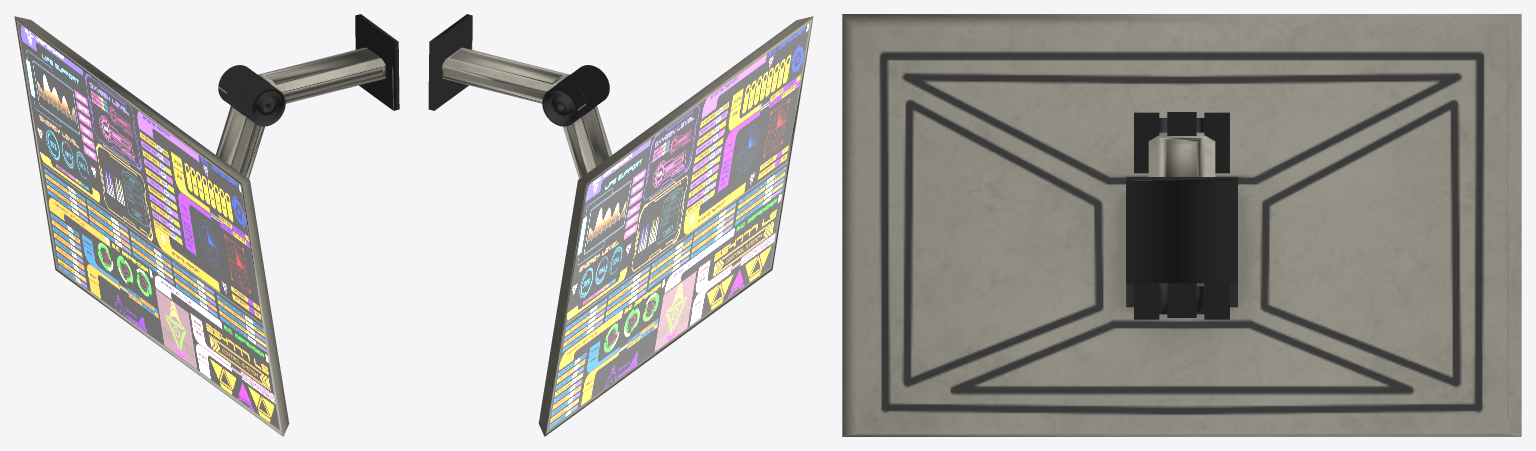
Rendered from SM_InfoPultMonitorOnTheWall.fbx.
3 renders of one model, left to right at view 1: azimuth 30°, elevation 25°; view 2: azimuth 150°, elevation 25°; view 3: azimuth 270°, elevation 25°, orthographic. The views are drawn at different scales.
Visible parts, largest first — view 1: SM_InfoPultMonitorOnTheWall_LOD0; view 2: SM_InfoPultMonitorOnTheWall_LOD0; view 3: SM_InfoPultMonitorOnTheWall_LOD0.
Boxes of the visible parts, x1,y1,x2,y2 form: SM_InfoPultMonitorOnTheWall_LOD0: (14,14,399,436); SM_InfoPultMonitorOnTheWall_LOD0: (428,14,813,436); SM_InfoPultMonitorOnTheWall_LOD0: (842,14,1521,436).
Size of the model in its own units: 90.07 by 93.63 by 141.
Materials: 2 (1 with a texture image).
